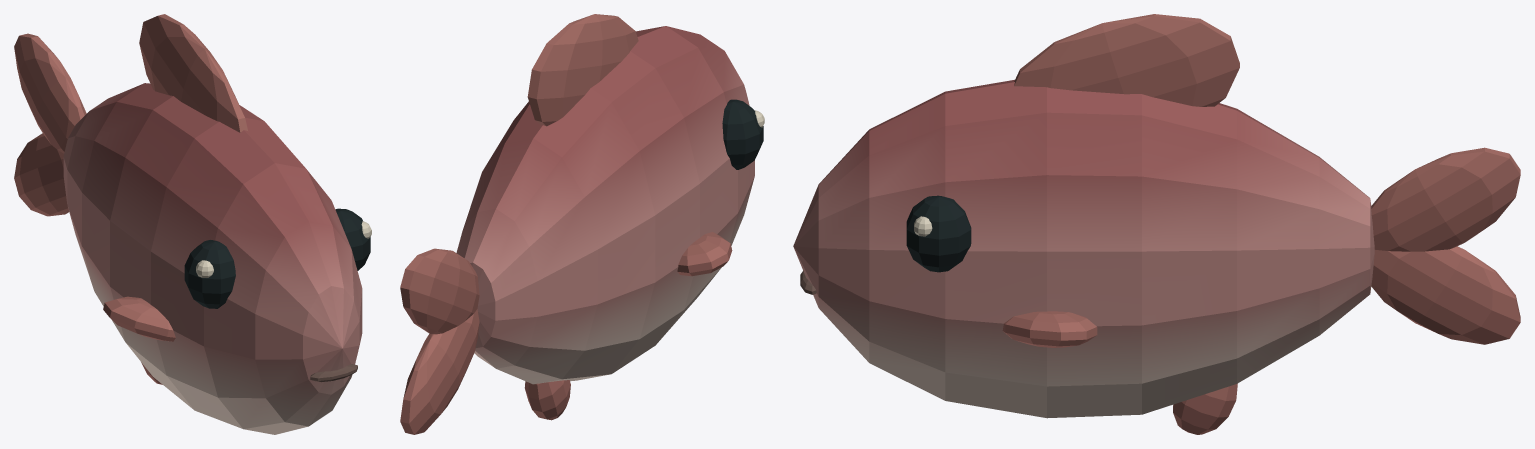
Rendered from komachi-sea-bream.glb.
The picture shows the model from 3 angles, left to right: view 1: azimuth 30°, elevation 25°; view 2: azimuth 150°, elevation 25°; view 3: azimuth 270°, elevation 25°; orthographic projection. The views are drawn at different scales.
Visible parts, largest first — view 1: Fish_Body, Fish_Tail_Fin; view 2: Fish_Body, Fish_Tail_Fin; view 3: Fish_Body, Fish_Tail_Fin.
Part boxes in pixels (x1=…): Fish_Body: x1=63, y1=14, x2=371, y2=434; Fish_Tail_Fin: x1=14, y1=33, x2=86, y2=216; Fish_Body: x1=456, y1=14, x2=764, y2=420; Fish_Tail_Fin: x1=400, y1=248, x2=479, y2=434; Fish_Body: x1=793, y1=14, x2=1374, y2=434; Fish_Tail_Fin: x1=1371, y1=147, x2=1520, y2=344.
Size of the model in its own units: 0.0927 by 0.1456 by 0.2295.
